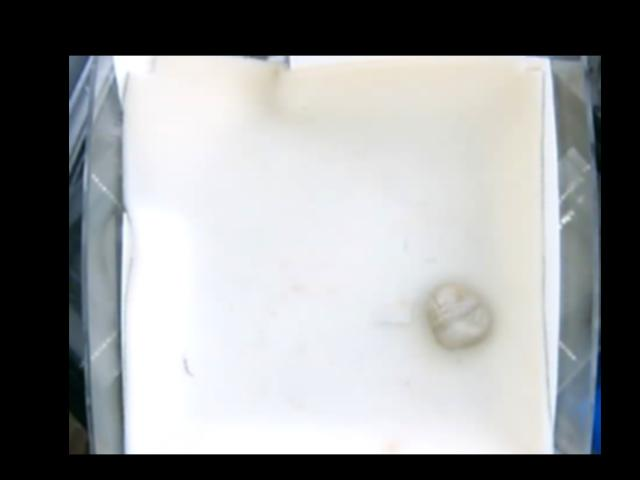Pebble: (426, 282, 492, 349)
